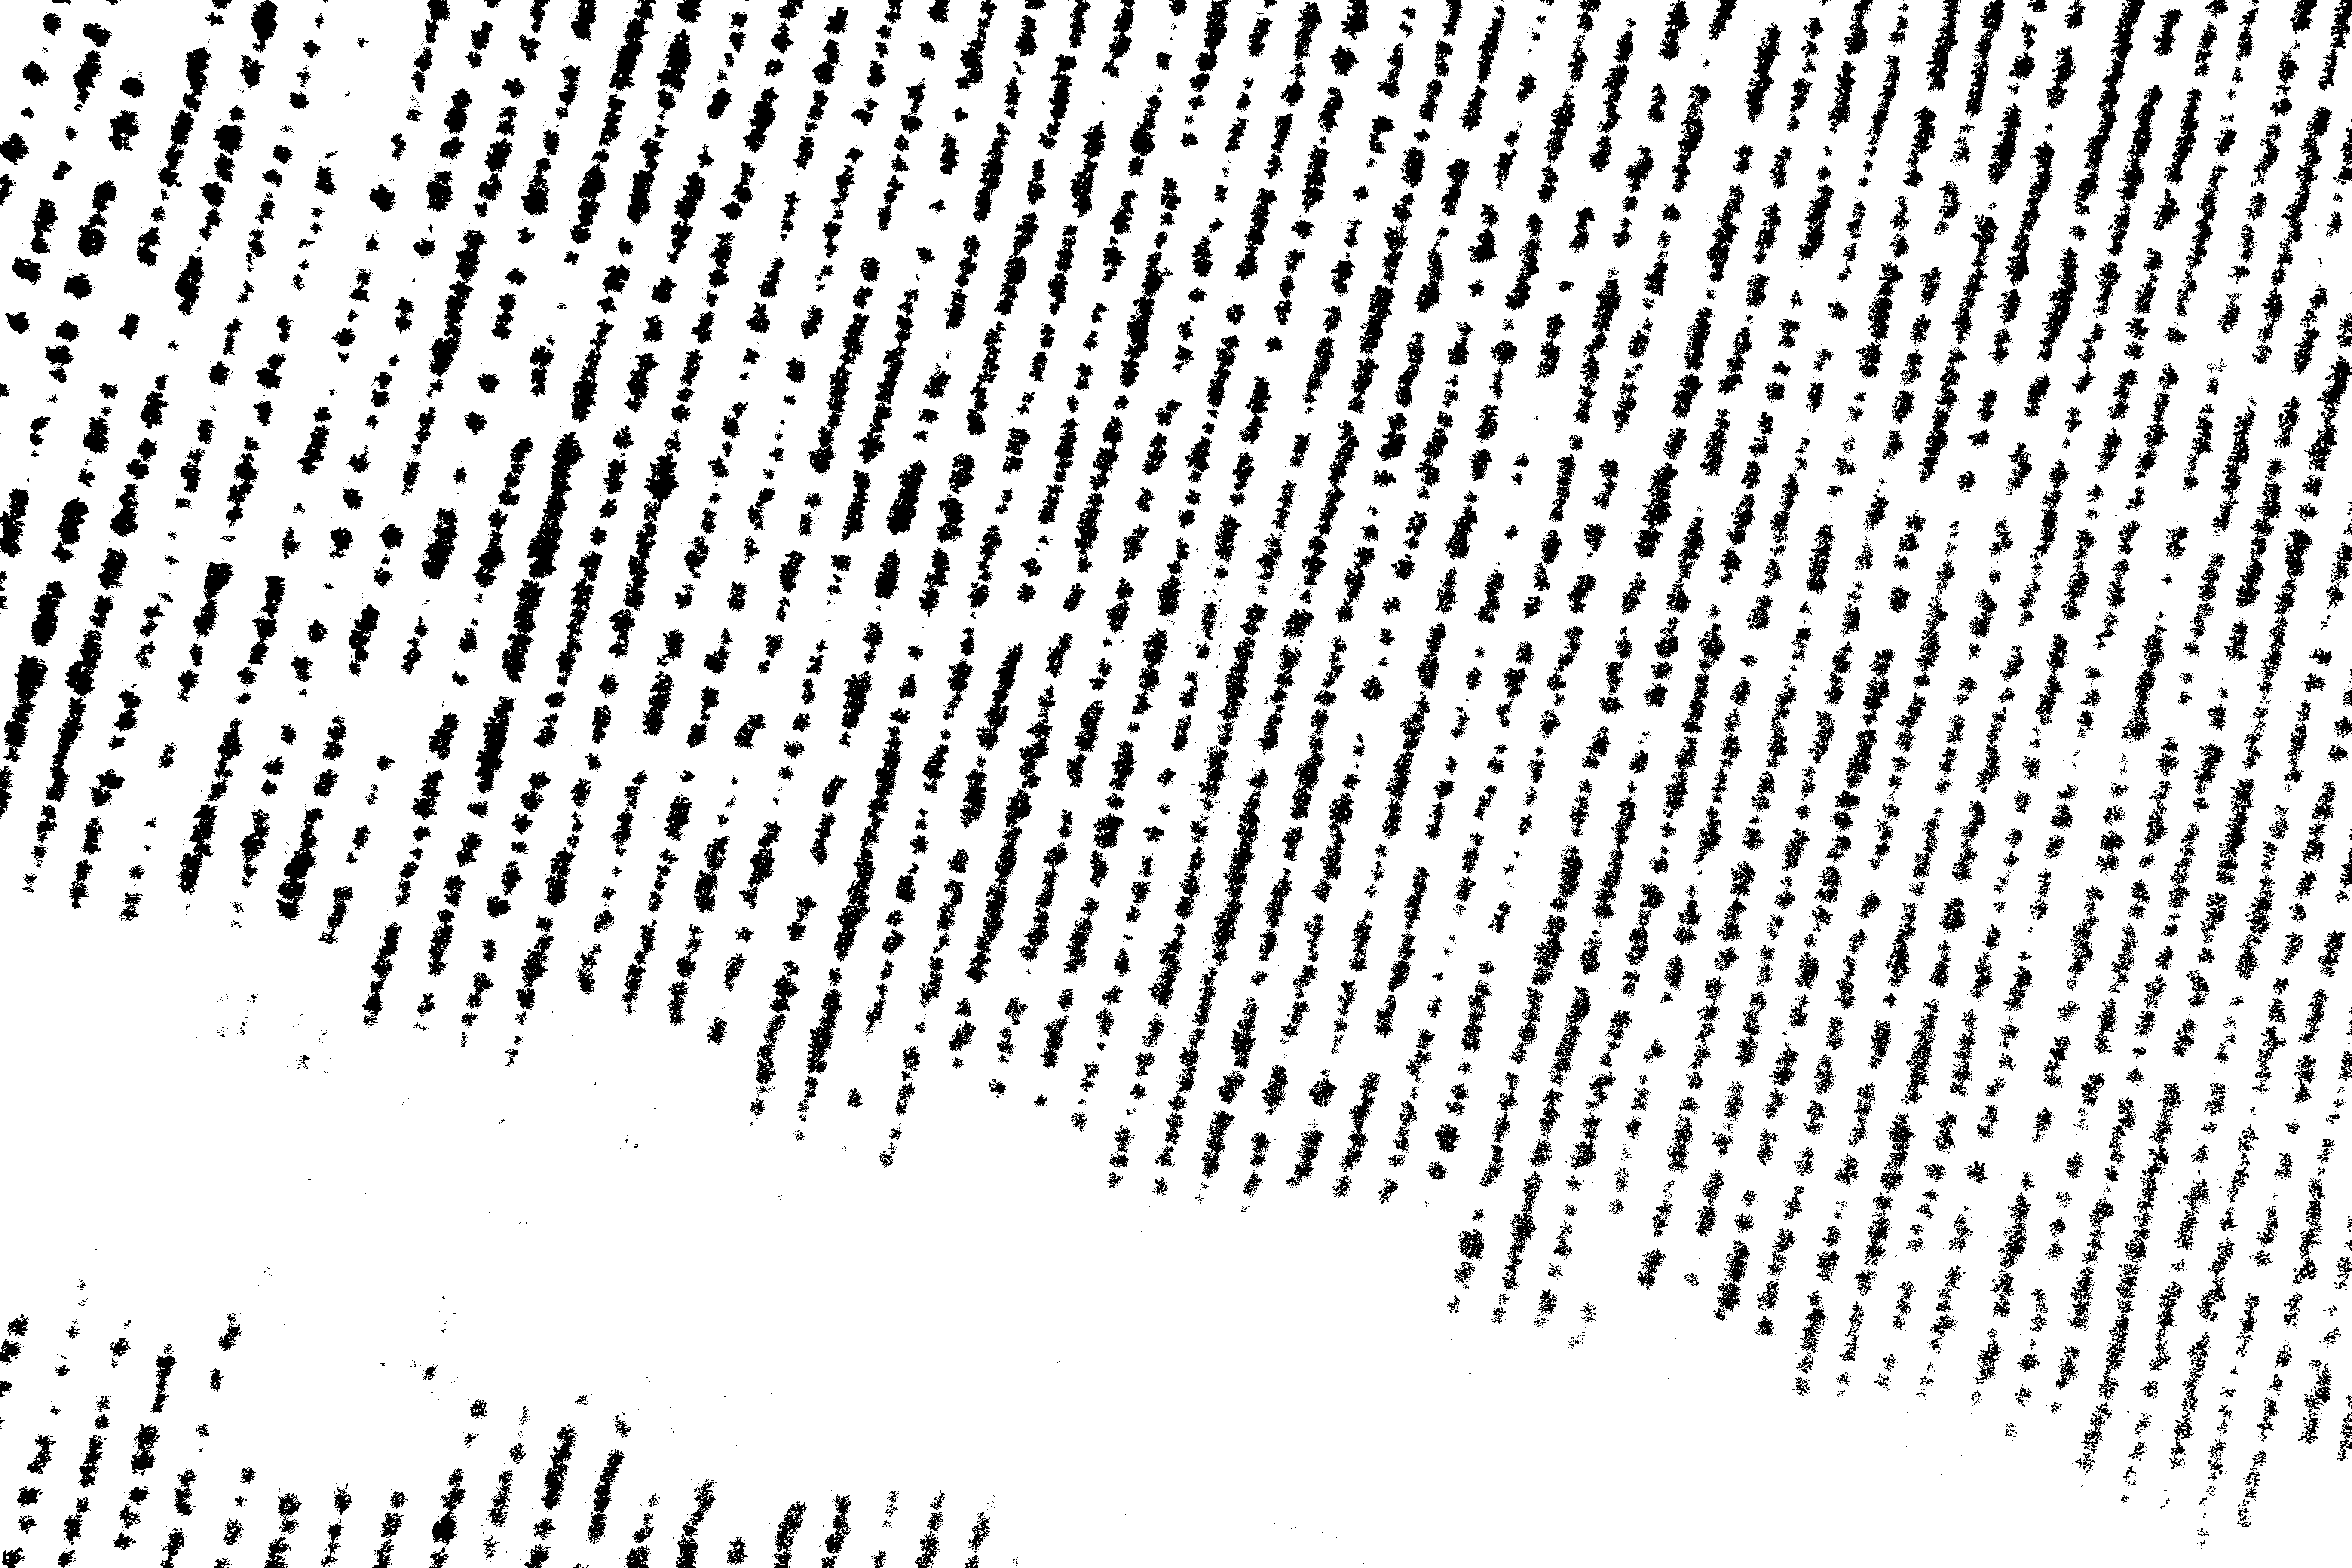surco: (188, 0, 392, 865)
